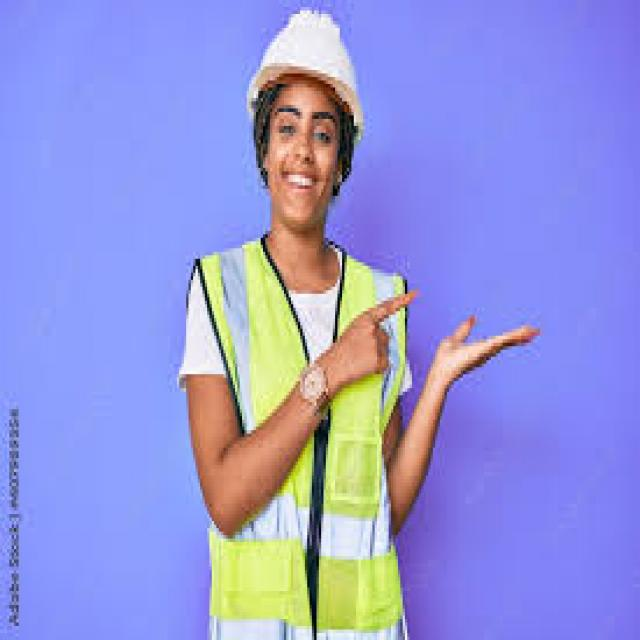Reflective-Jacket: (195, 248, 412, 630)
Safety-Helmet: (244, 7, 366, 136)
